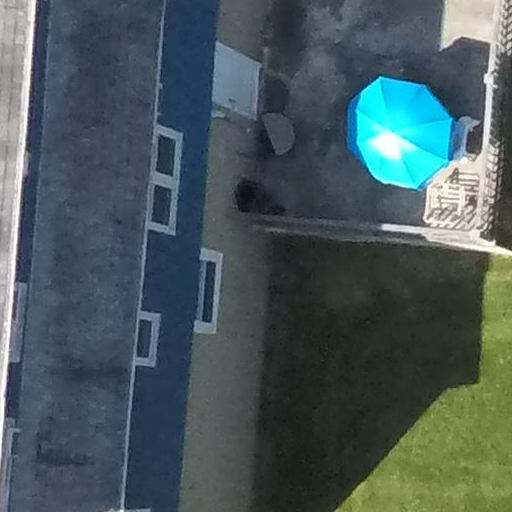porch: (247, 1, 510, 262)
umbrella: (330, 66, 470, 197)
